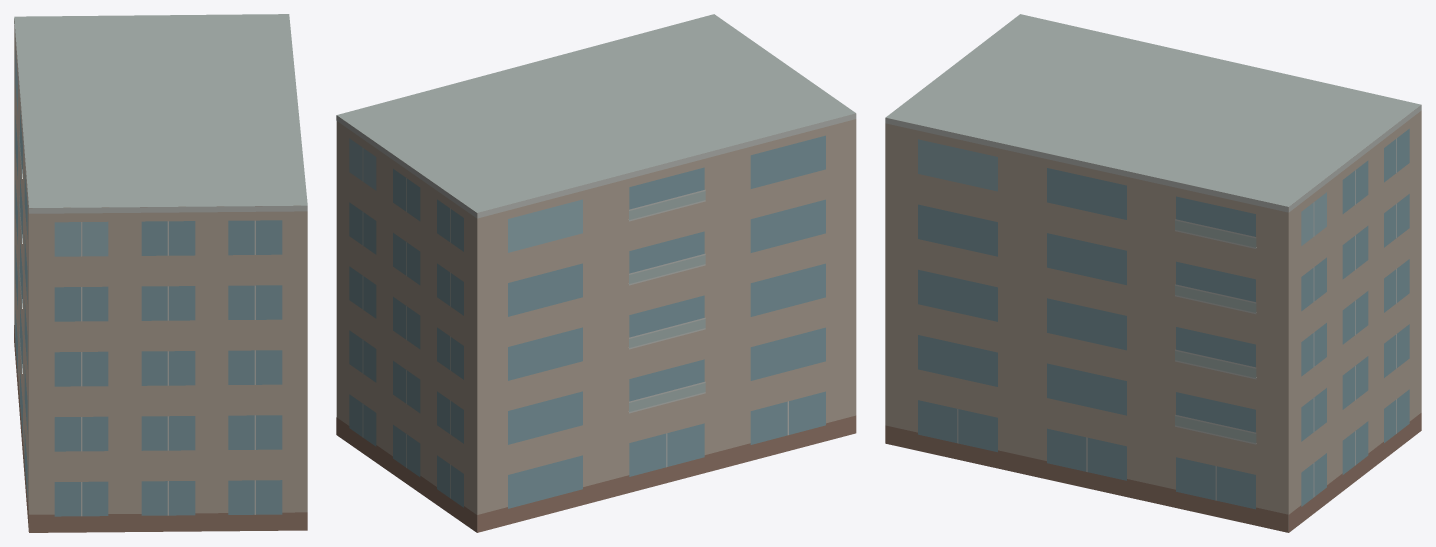
Rendered from survey-upis-32658093.glb.
3 renders of one model, left to right at view 1: azimuth 30°, elevation 25°; view 2: azimuth 150°, elevation 25°; view 3: azimuth 270°, elevation 25°, orthographic.
Visible parts, largest first — view 1: survey-upis-32658093.tmp; view 2: survey-upis-32658093.tmp; view 3: survey-upis-32658093.tmp.
Part boxes in pixels (x1,y1,x2,y2): survey-upis-32658093.tmp: (14, 14, 307, 532); survey-upis-32658093.tmp: (336, 14, 856, 532); survey-upis-32658093.tmp: (885, 14, 1421, 532).
Bounding box in the file's own units: 17.66 × 13.9 × 20.73.
